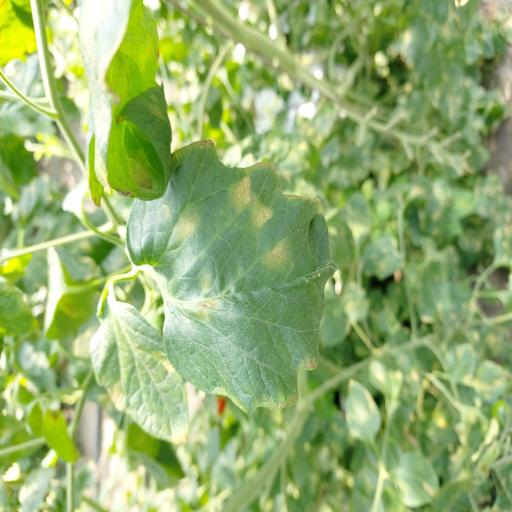Leaf Mold: (125, 136, 337, 418), (91, 298, 189, 446)
